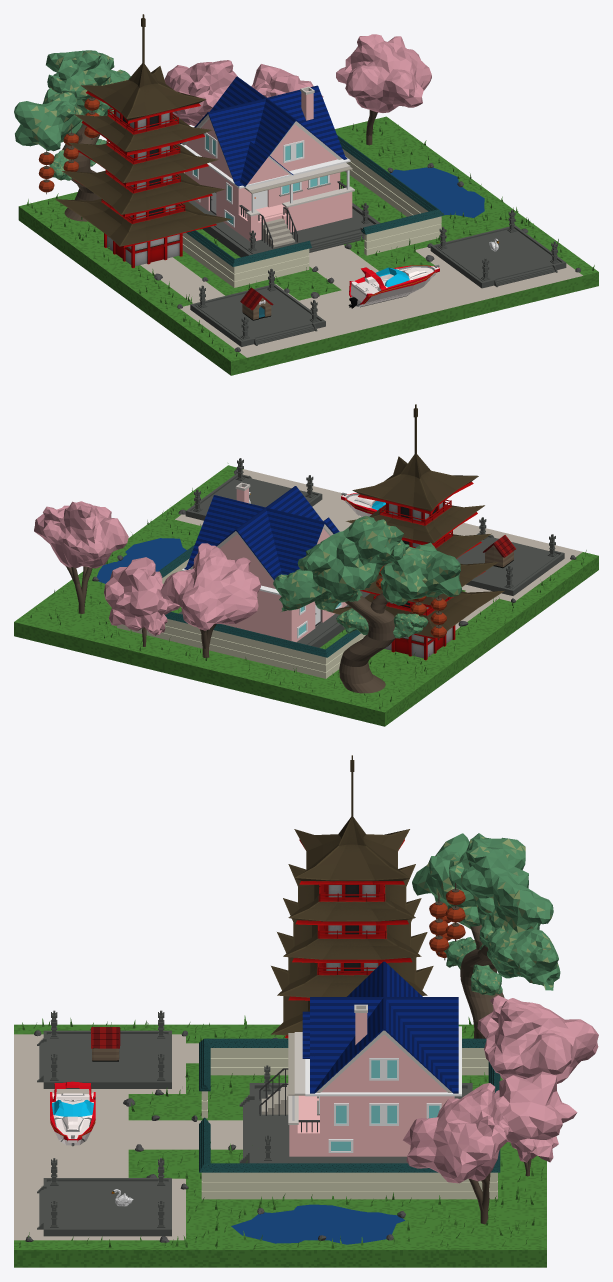
3 views of the same model, one above another, from view 1: azimuth 30°, elevation 25°; view 2: azimuth 150°, elevation 25°; view 3: azimuth 270°, elevation 25° (orthographic). The views are drawn at different scales.
Parts seen in each view (by area): view 1: Cube.005, Cube.313, VEHICLES_BOAT, OBJRANDOM_DOGHOUSE; view 2: Cube.005, Cube.313, OBJRANDOM_DOGHOUSE, VEHICLES_BOAT; view 3: Cube.005, Cube.313, VEHICLES_BOAT, OBJRANDOM_DOGHOUSE.
Boxes of the visible parts, x1,y1,x2,y2 form: Cube.005: [14, 14, 598, 375]; Cube.313: [179, 76, 354, 248]; VEHICLES_BOAT: [348, 264, 439, 308]; OBJRANDOM_DOGHOUSE: [240, 287, 273, 320]; Cube.005: [14, 404, 598, 726]; Cube.313: [181, 482, 347, 642]; OBJRANDOM_DOGHOUSE: [483, 535, 515, 568]; VEHICLES_BOAT: [341, 492, 385, 516]; Cube.005: [14, 755, 598, 1267]; Cube.313: [259, 961, 461, 1156]; VEHICLES_BOAT: [50, 1081, 95, 1146]; OBJRANDOM_DOGHOUSE: [90, 1027, 120, 1061].
Size of the model in its own units: 4528 by 2791 by 4389.
41 materials, 5 textured.
